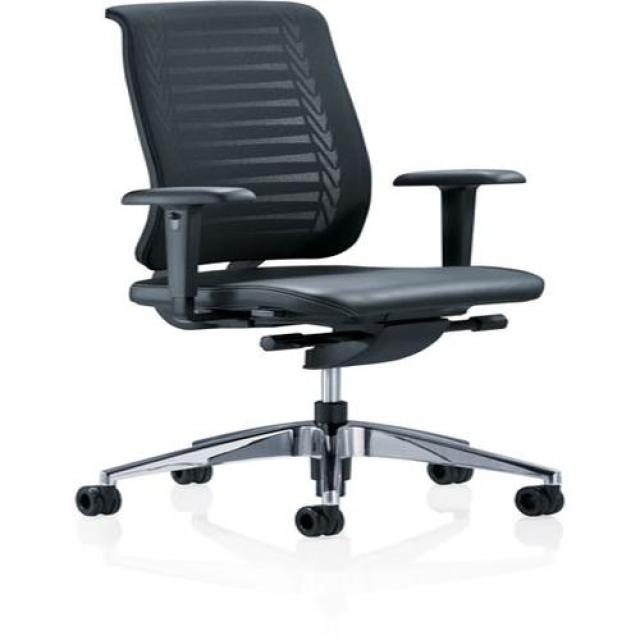swivelchair: (76, 1, 564, 539)
